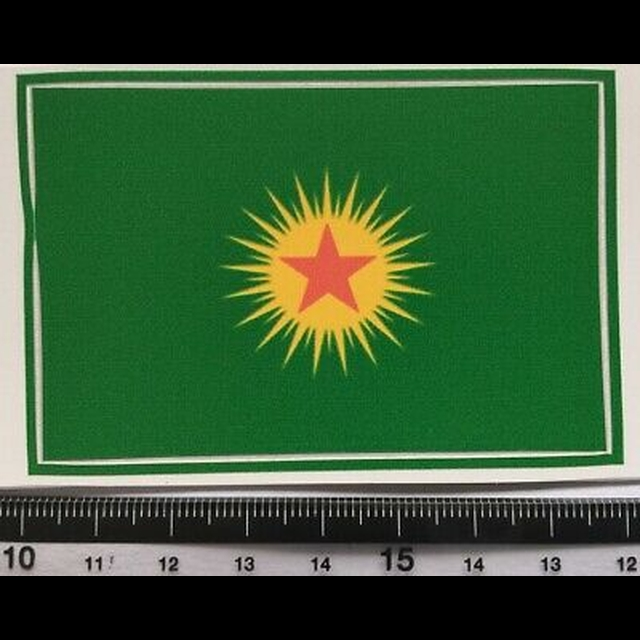KCK: (213, 158, 445, 383)
